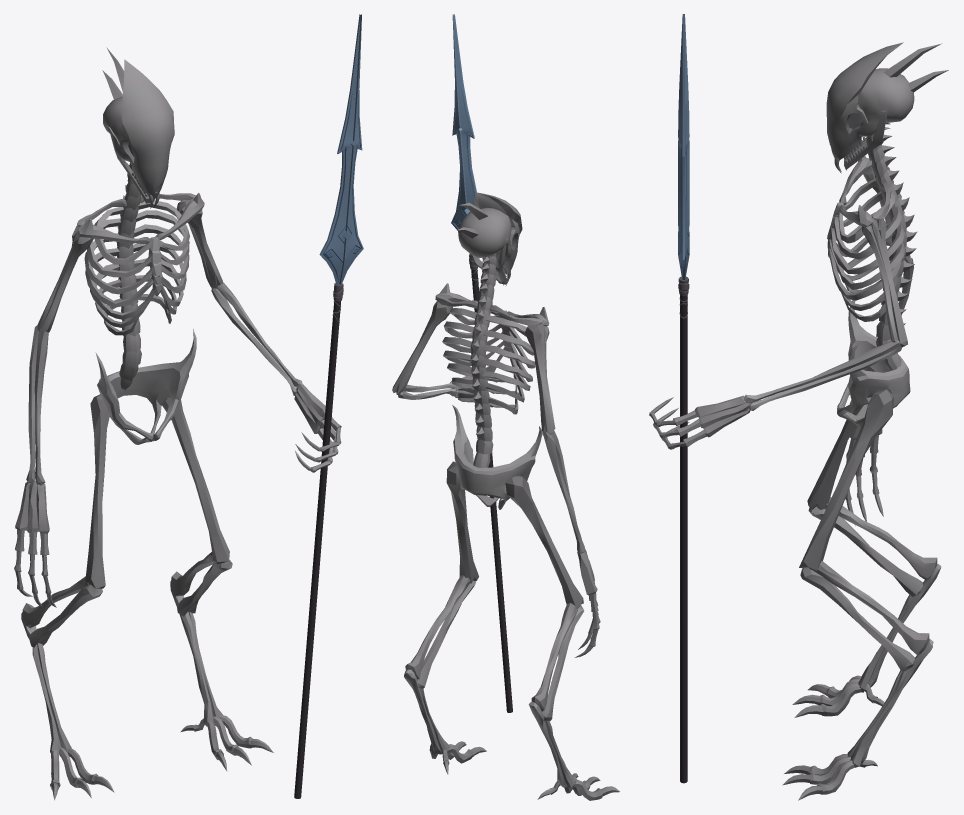
File: SM_Props_Alien_02.fbx
The picture shows the model from 3 angles, left to right: view 1: azimuth 30°, elevation 25°; view 2: azimuth 150°, elevation 25°; view 3: azimuth 270°, elevation 25°; orthographic projection. The views are drawn at different scales.
Visible parts, largest first — view 1: SM_Props_Alien_02_LOD0; view 2: SM_Props_Alien_02_LOD0; view 3: SM_Props_Alien_02_LOD0.
Boxes of the visible parts, <box> form: SM_Props_Alien_02_LOD0: <box>14,14,363,800</box>; SM_Props_Alien_02_LOD0: <box>392,14,619,800</box>; SM_Props_Alien_02_LOD0: <box>649,14,948,800</box>.
Size of the model in its own units: 71.77 by 205 by 69.65.
